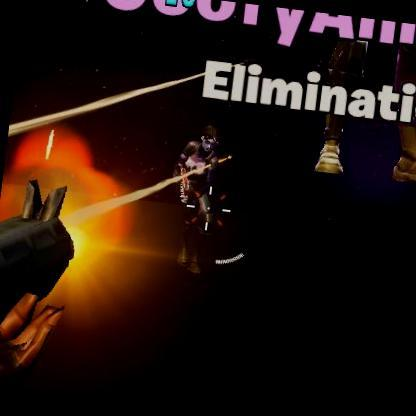person: (161, 124, 233, 274)
